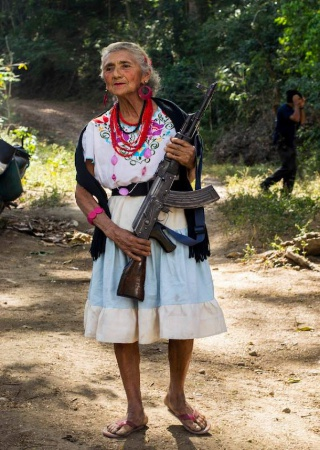rifle: (115, 76, 225, 304)
